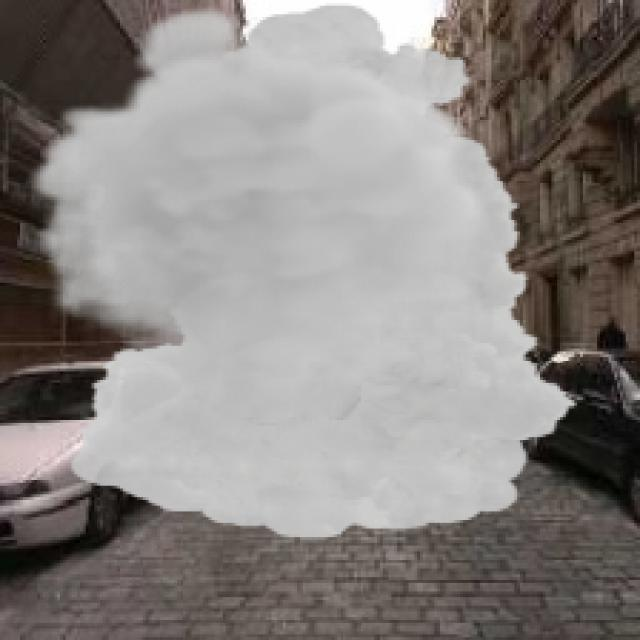Smoke: (26, 3, 580, 540)
